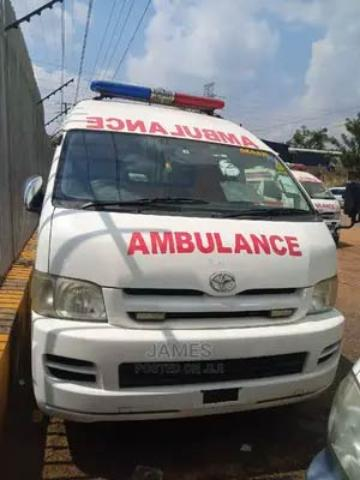van: (23, 77, 357, 418)
